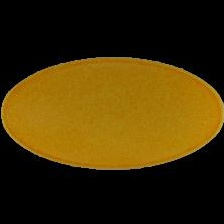33261-100: (0, 0, 224, 224)
